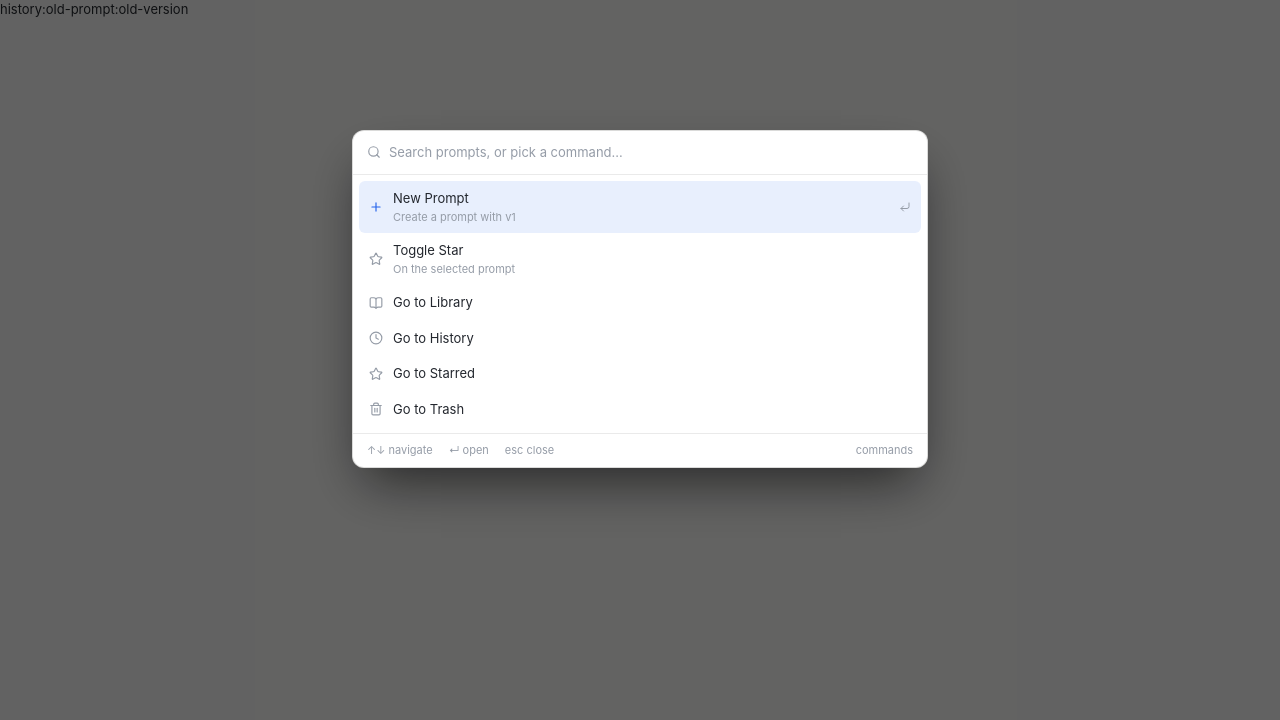
CommandPalette prompt loading › shows each prompt once when full-text search returns multiple matching versions
Type "release" into the field with placeholder "Search prompts, or pick a command…". click: x=651, y=152
box: [389,131,913,174]
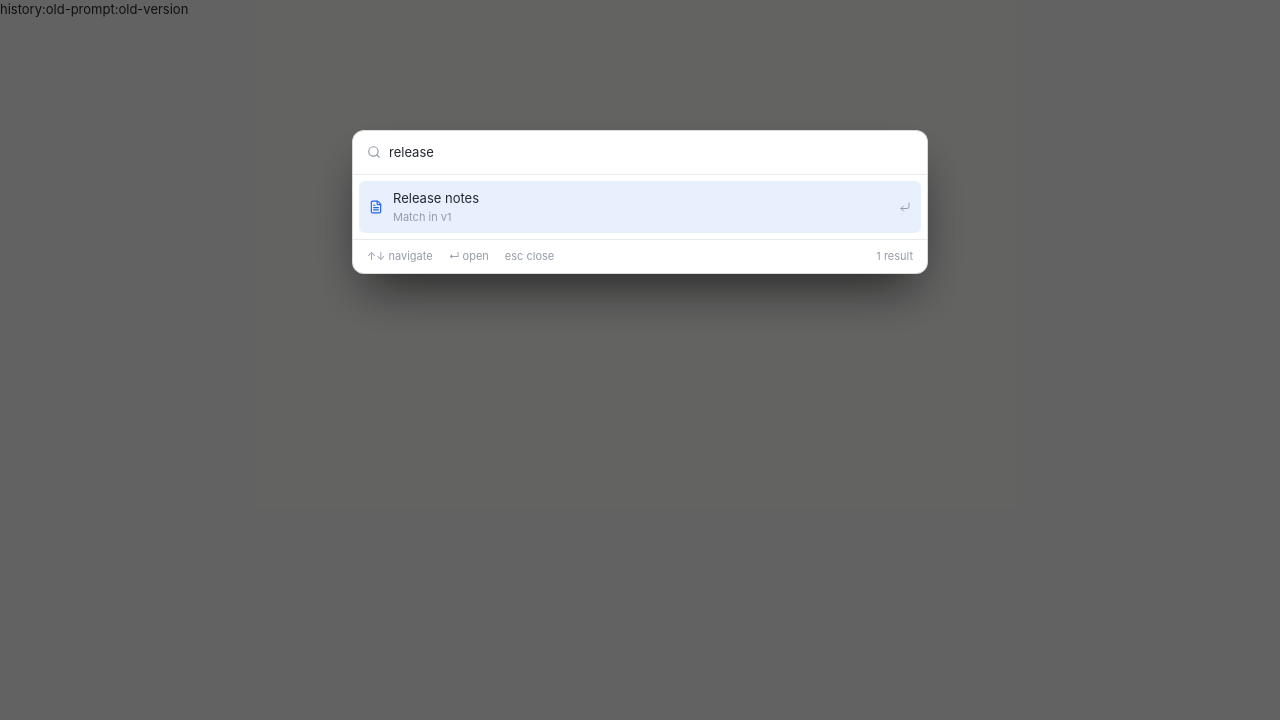
expect the text "Release notes" is shown once: met, box [393,190,479,206]
